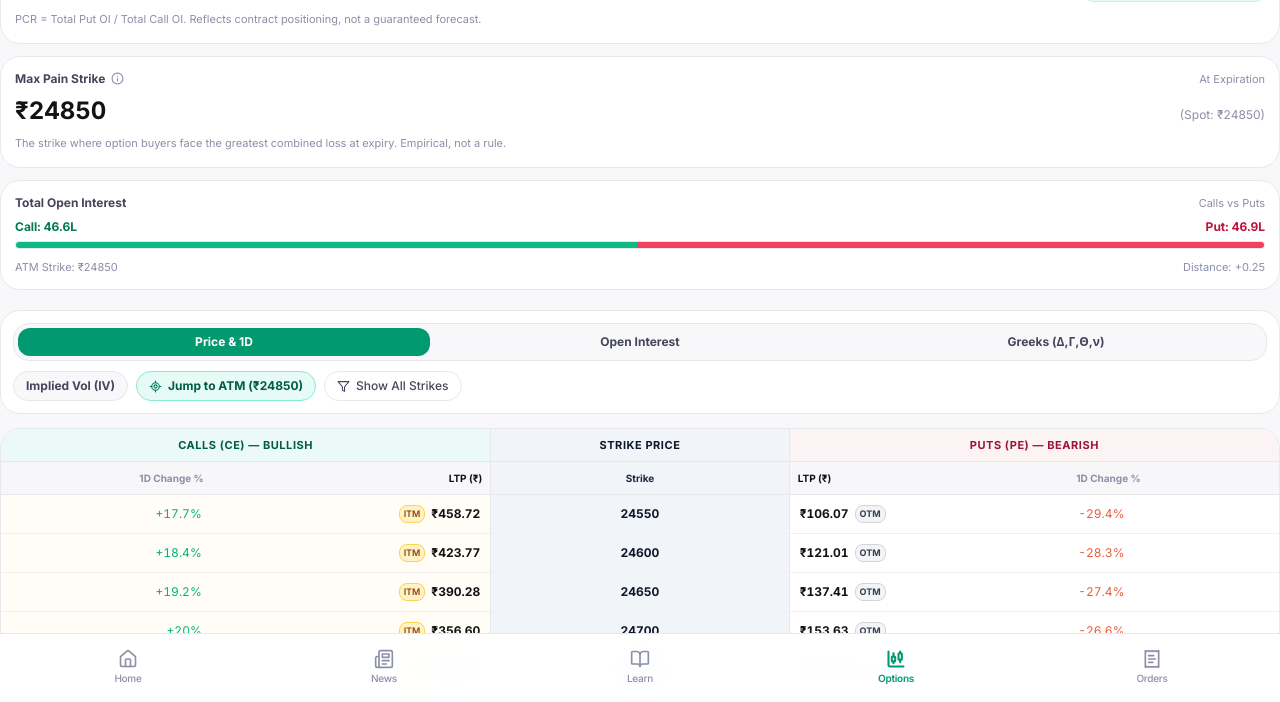
Option Chain Responsiveness & Metric Views (P0 & P1) › switches metric views between Price, Open Interest, Greeks, and IV
The image size is (1280, 702).
(page scrolled)
# Switch to Open Interest view
Click the button "Open Interest" at (640, 342), box [434,328,846,356]
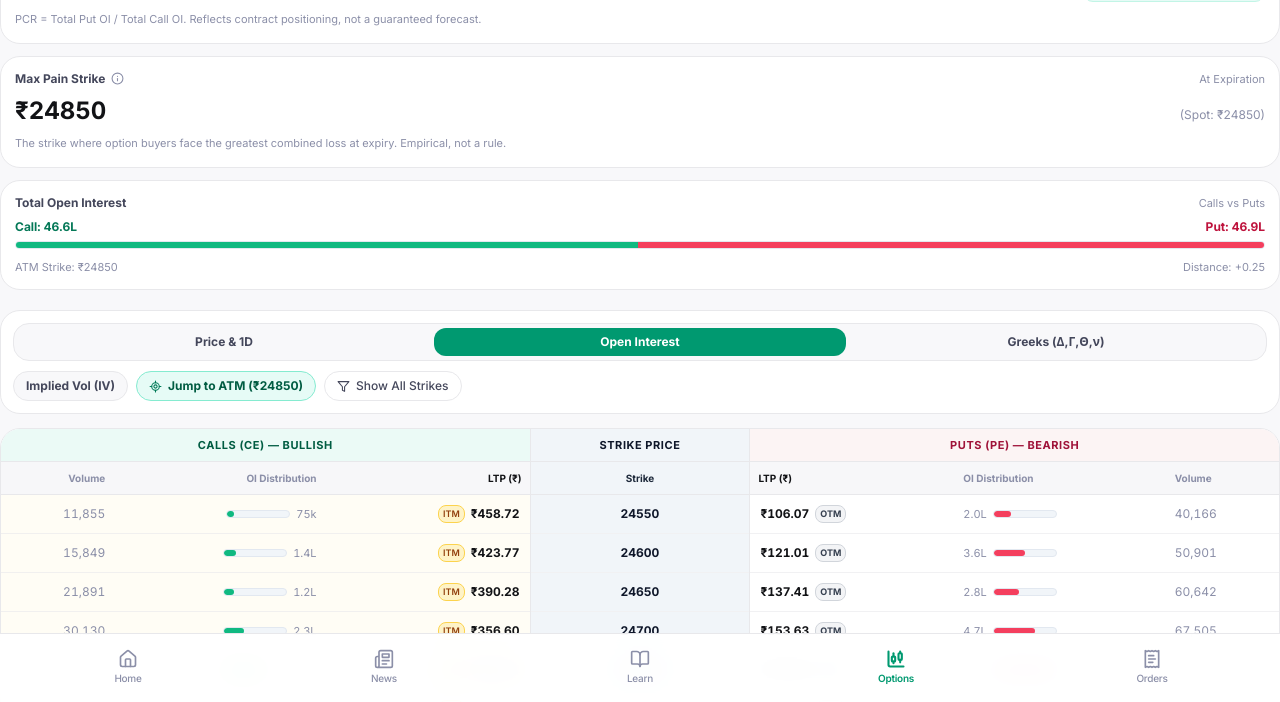
Check: the 1st column heading "OI Distribution" is shown, box [113,462,325,495]
# Switch to Greeks view
Click the button "Greeks (Δ,Γ,Θ,ν)" at (1056, 342), box [850,328,1262,356]
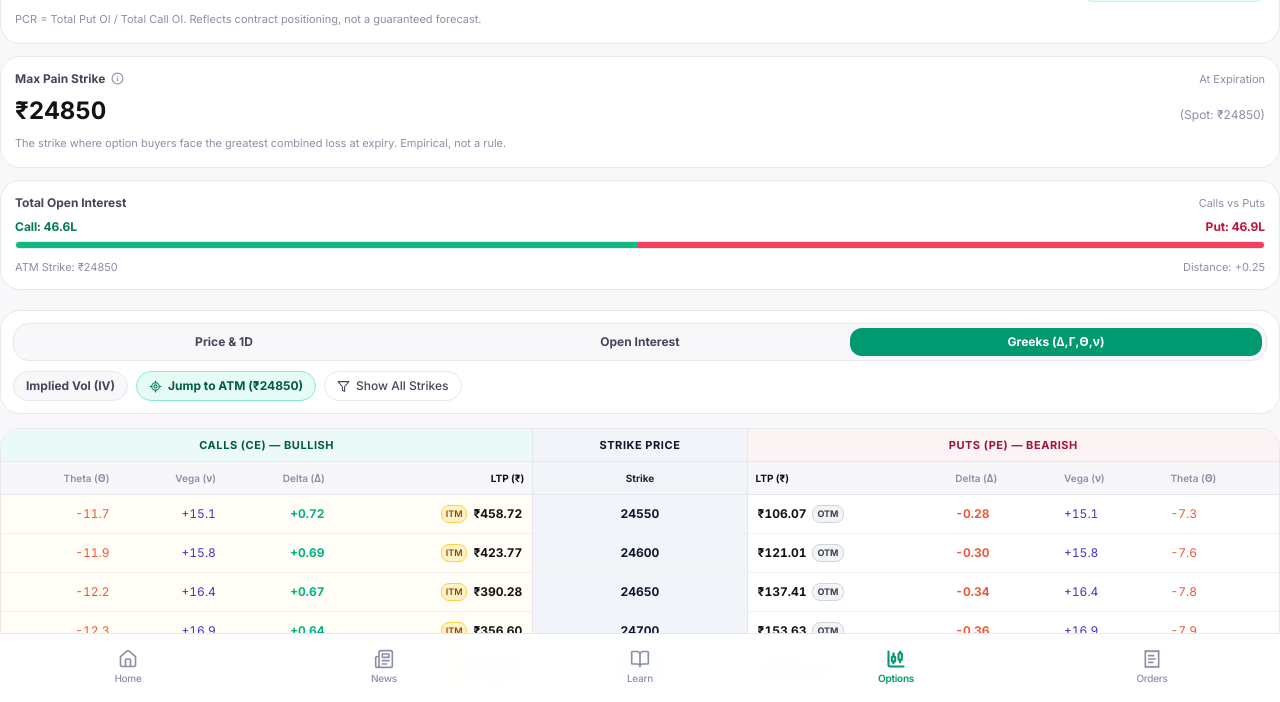
Check: the 1st column heading "Delta (Δ)" is shown, box [224,462,333,495]
Check: the 1st column heading "Theta (Θ)" is shown, box [1,462,118,495]
# Switch to IV view
Click the button "Implied Vol (IV)" at (70, 386), box [13,371,128,401]
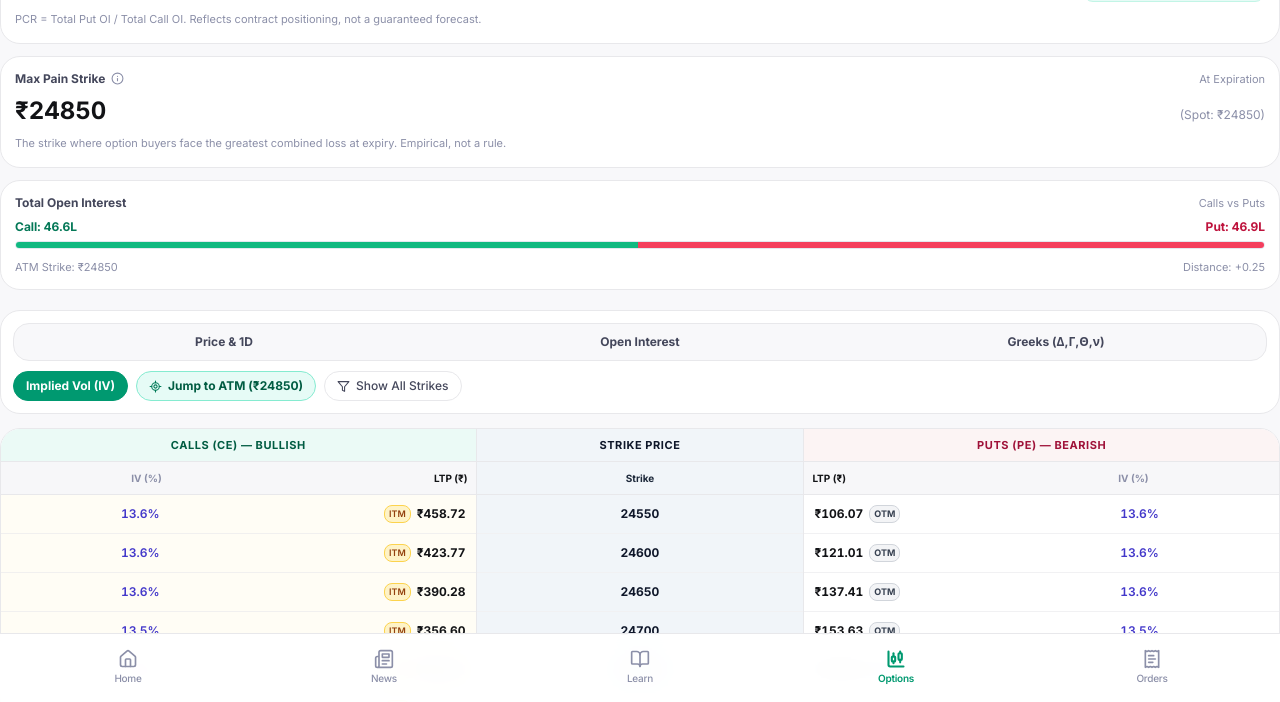
Check: the 1st column heading "IV (%)" is shown, box [1,462,170,495]
